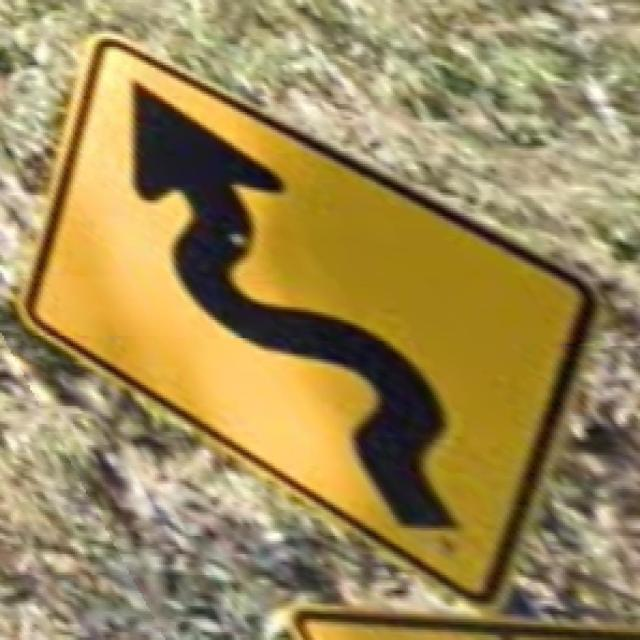Banyak Tikungan Pertama Kanan: (6, 26, 604, 611)
